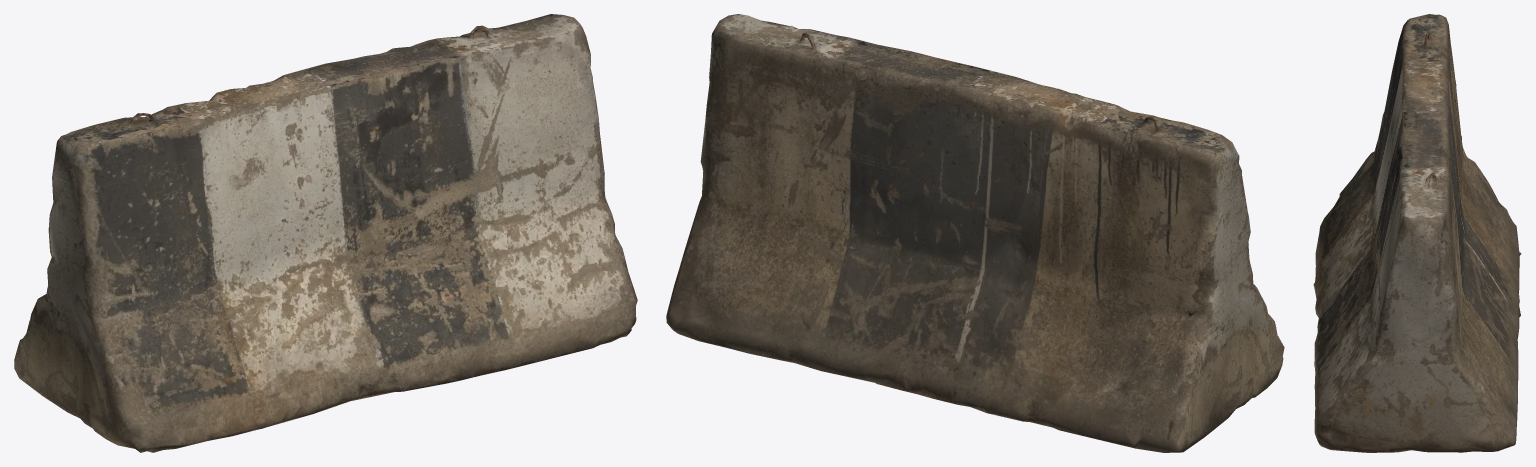
The model's file is concrete_road_barrier.glb.
3 views of the same model, side by side, from view 1: azimuth 30°, elevation 25°; view 2: azimuth 150°, elevation 25°; view 3: azimuth 270°, elevation 25° (orthographic). The views are drawn at different scales.
Visible parts, largest first — view 1: concrete_road_barrier; view 2: concrete_road_barrier; view 3: concrete_road_barrier.
Part boxes in pixels (x1=…): concrete_road_barrier: x1=14, y1=14, x2=637, y2=452; concrete_road_barrier: x1=666, y1=14, x2=1284, y2=452; concrete_road_barrier: x1=1313, y1=14, x2=1521, y2=452.
Size of the model in its own units: 1.54 by 0.8296 by 0.6387.
Materials: 1 (1 with a texture image).
